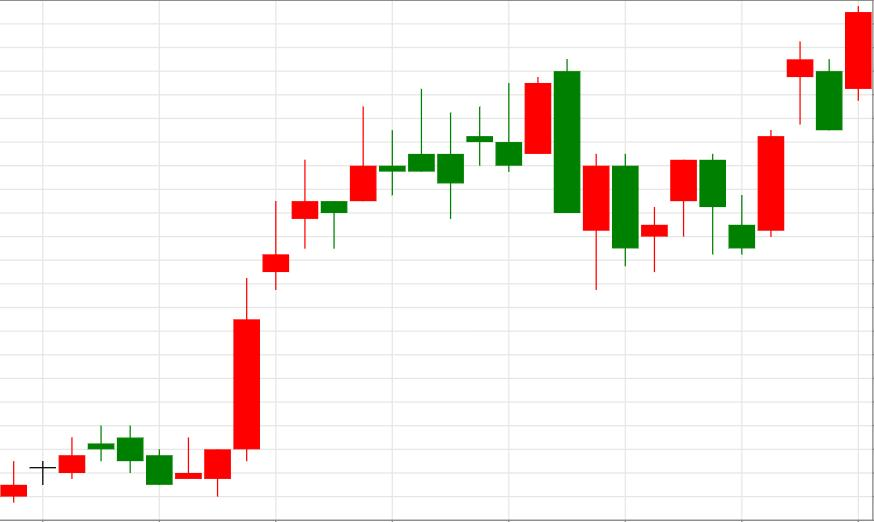bearish_engulfing_fall: (203, 58, 580, 495)
